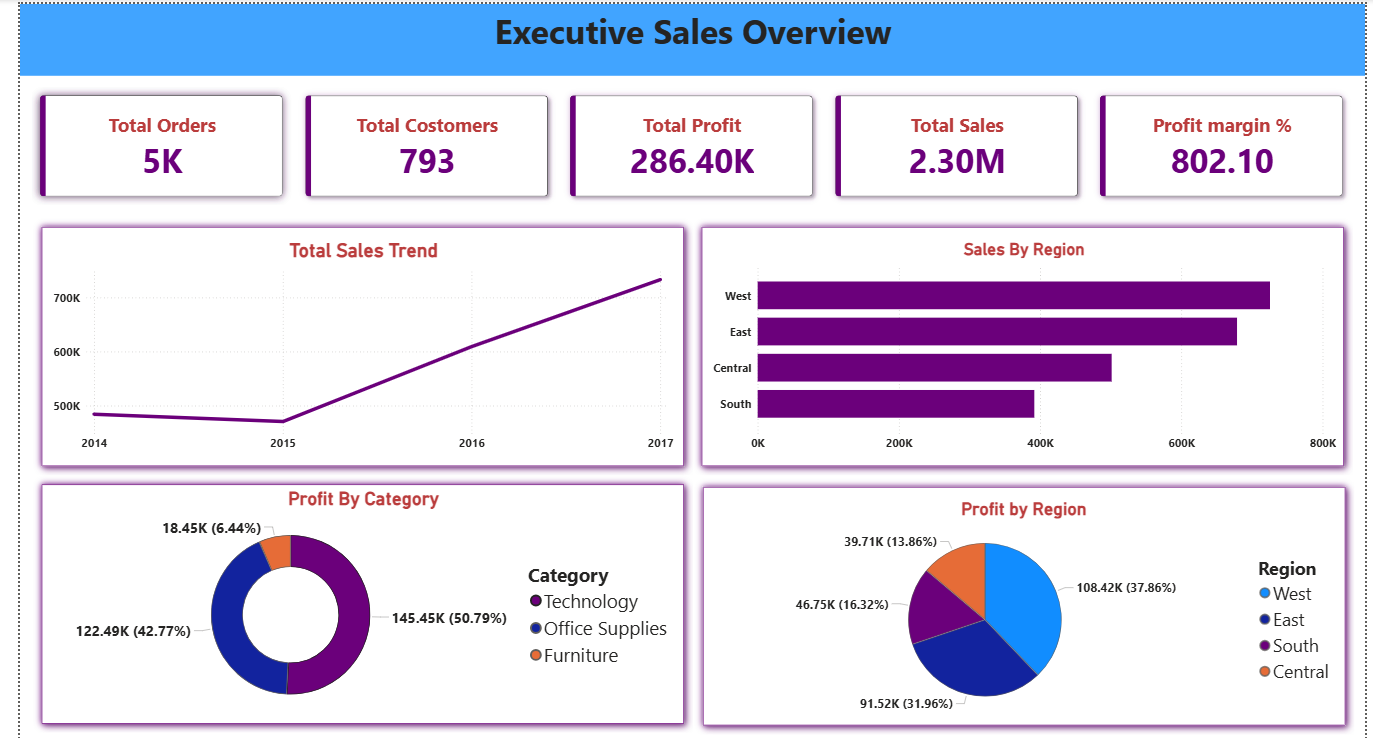

This screenshot's page, from the dashboard's own definition file:
{"tool":"powerbi","page":{"name":"Executive Sales Overview","canvas":[1920,1050],"ordinal":0},"visuals":[{"type":"cardVisual","fields":{"Data":["Superstore.Total Orders","Superstore.Total Costomers","Superstore.Total Profit","Superstore.Total Sales","Superstore.Profit margin %"]},"box":[0,102.5,1920,202.5],"z":0},{"type":"textbox","box":[0,0,1920.4,102.9],"z":1000},{"type":"shape","box":[17.5,305,942.5,367.5],"z":2000},{"type":"lineChart","title":" Total Sales Trend","fields":{"Category":["Superstore.Year"],"Y":["Superstore.Total Sales"]},"box":[42.5,335,895,312.5],"z":3000},{"type":"shape","box":[960,305,942.5,367.5],"z":4000},{"type":"clusteredBarChart","title":"Sales By Region","fields":{"Category":["Superstore.Region"],"Y":["Superstore.Total Sales"]},"box":[982.5,335,900,312.5],"z":5000},{"type":"shape","box":[17.5,672.5,942.5,367.5],"z":6000},{"type":"donutChart","title":"Profit By Category","fields":{"Y":["Sum(Superstore.Profit)"],"Category":["Superstore.Category"]},"box":[42.5,690,895,332.5],"z":7000},{"type":"shape","box":[961.2,675.1,942.7,366.4],"z":8000},{"type":"pieChart","title":"Profit by Region","fields":{"Y":["Superstore.Total Profit"],"Category":["Superstore.Region"]},"box":[981.8,706,899.5,317],"z":9000}]}

Visuals, with their boxes in screenshot pixels (x1, y1, x2, y2), scaled from the page's 1920x1050 canvas onto the 1373x738 screenshot:
cardVisual - Superstore.Total Orders x Superstore.Total Costomers: {"x1": 0, "y1": 72, "x2": 1372, "y2": 214}
textbox: {"x1": 0, "y1": 0, "x2": 1372, "y2": 72}
shape: {"x1": 13, "y1": 214, "x2": 686, "y2": 473}
" Total Sales Trend" lineChart: {"x1": 30, "y1": 235, "x2": 670, "y2": 455}
shape: {"x1": 686, "y1": 214, "x2": 1360, "y2": 473}
"Sales By Region" clusteredBarChart: {"x1": 703, "y1": 235, "x2": 1346, "y2": 455}
shape: {"x1": 13, "y1": 473, "x2": 686, "y2": 731}
"Profit By Category" donutChart: {"x1": 30, "y1": 485, "x2": 670, "y2": 719}
shape: {"x1": 687, "y1": 474, "x2": 1361, "y2": 732}
"Profit by Region" pieChart: {"x1": 702, "y1": 496, "x2": 1345, "y2": 719}
